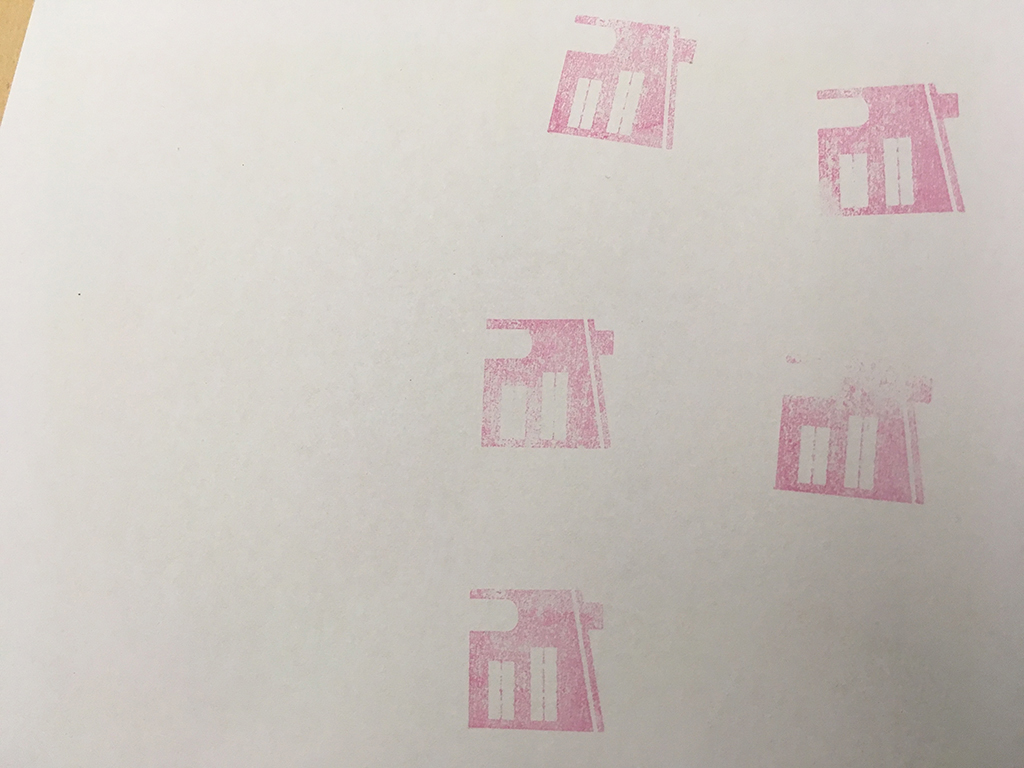house: (753, 336, 950, 513), (456, 576, 634, 744), (803, 64, 980, 223), (463, 302, 633, 457), (543, 2, 709, 160)
